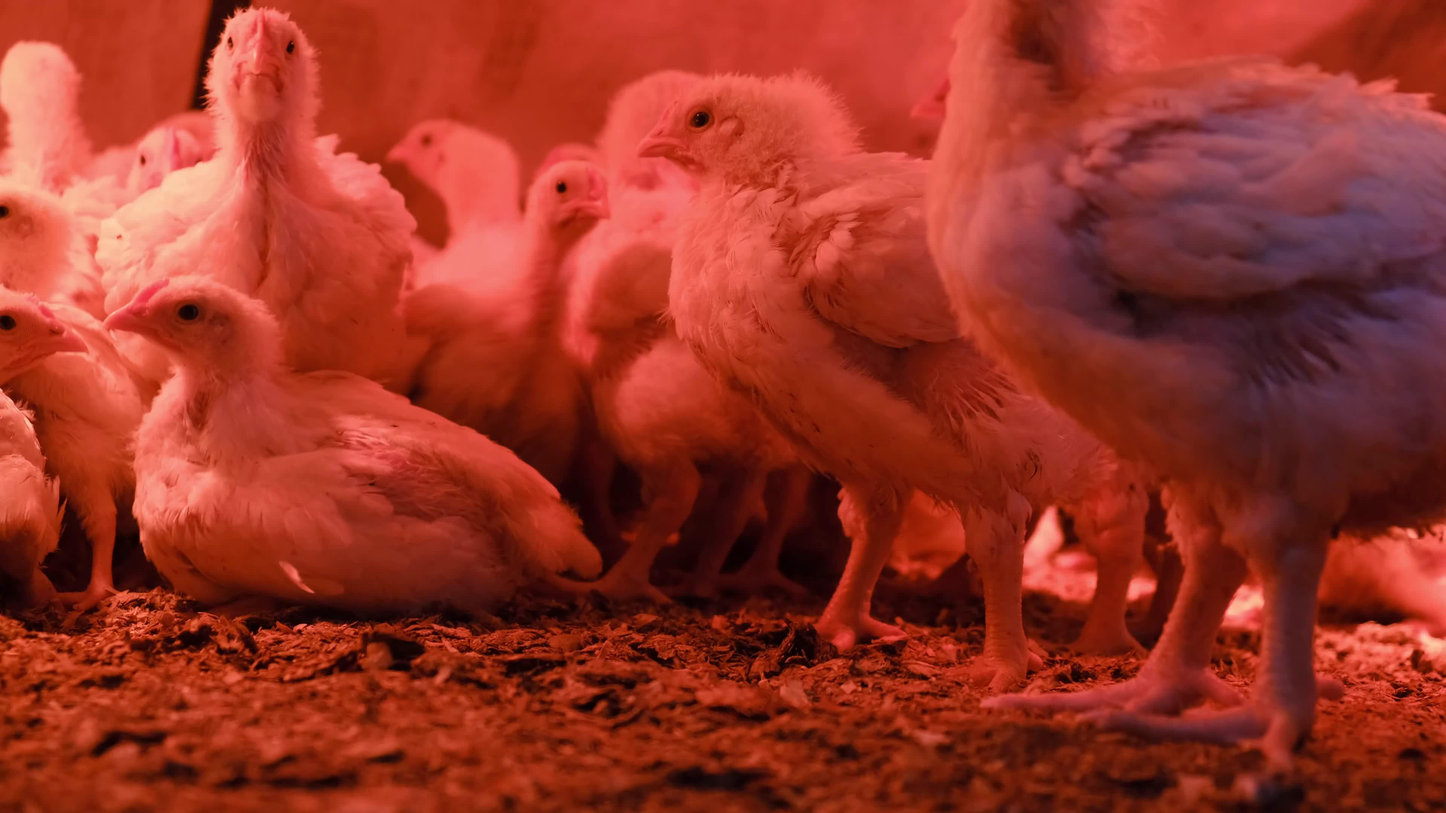AbNormal: (104, 267, 606, 604), (0, 284, 111, 661)
Normal: (892, 4, 1446, 813), (635, 66, 1115, 674), (117, 0, 439, 346), (422, 160, 638, 465), (348, 98, 569, 388), (0, 9, 132, 273), (81, 87, 233, 260)
